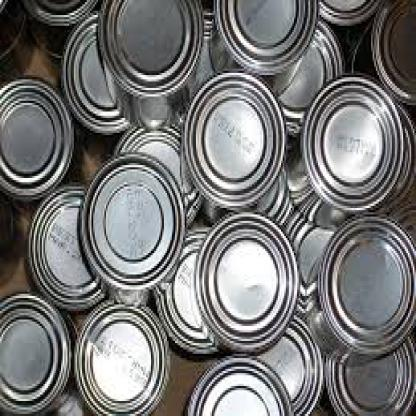METAL: (79, 152, 186, 290), (192, 210, 298, 348), (298, 69, 402, 208), (181, 68, 286, 204), (315, 210, 414, 354), (73, 298, 171, 414), (152, 225, 238, 354), (58, 11, 148, 133), (25, 180, 107, 311), (260, 19, 346, 135), (95, 0, 201, 92), (111, 122, 202, 228), (235, 313, 324, 414), (0, 77, 73, 198), (0, 292, 71, 414), (180, 10, 247, 126), (323, 330, 414, 414), (213, 0, 316, 71), (283, 206, 348, 317), (181, 352, 290, 414), (370, 0, 414, 105), (281, 126, 315, 206), (392, 99, 414, 210), (18, 0, 104, 26), (315, 0, 385, 24)
